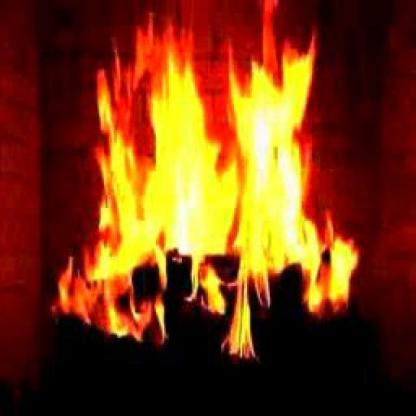fire: (44, 0, 364, 364)
